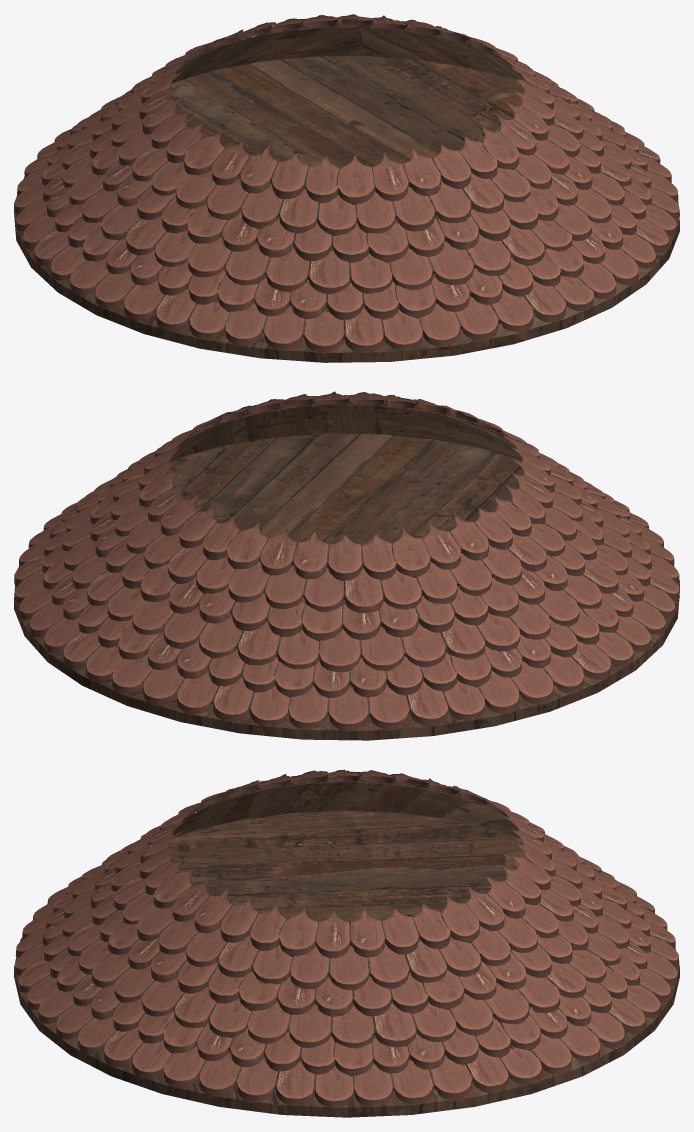
File: second_roof_LOD3.fbx
3 views of the same model, one above another, from view 1: azimuth 30°, elevation 25°; view 2: azimuth 150°, elevation 25°; view 3: azimuth 270°, elevation 25° (orthographic).
Visible parts, largest first — view 1: Cylinder.012; view 2: Cylinder.012; view 3: Cylinder.012.
Boxes of the visible parts, bbox=[...] form: Cylinder.012: bbox=[14, 14, 679, 362]; Cylinder.012: bbox=[14, 391, 679, 740]; Cylinder.012: bbox=[14, 769, 679, 1117].
Size of what is drawn, in the model's own units: 219 by 50.02 by 219.
